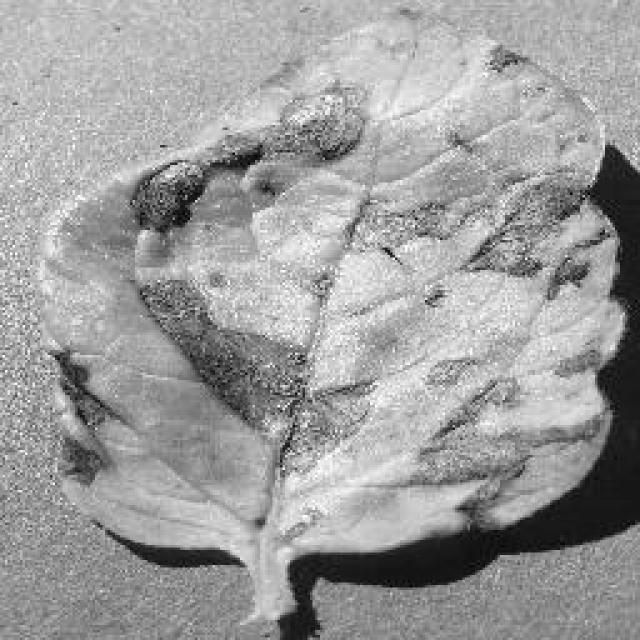Potato: (35, 5, 633, 637)
